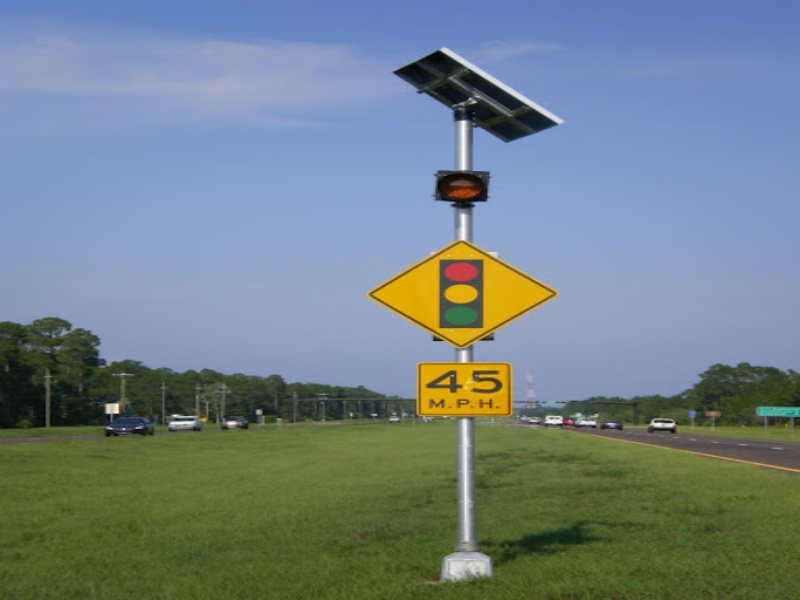traffic signal sign: (366, 238, 560, 350)
